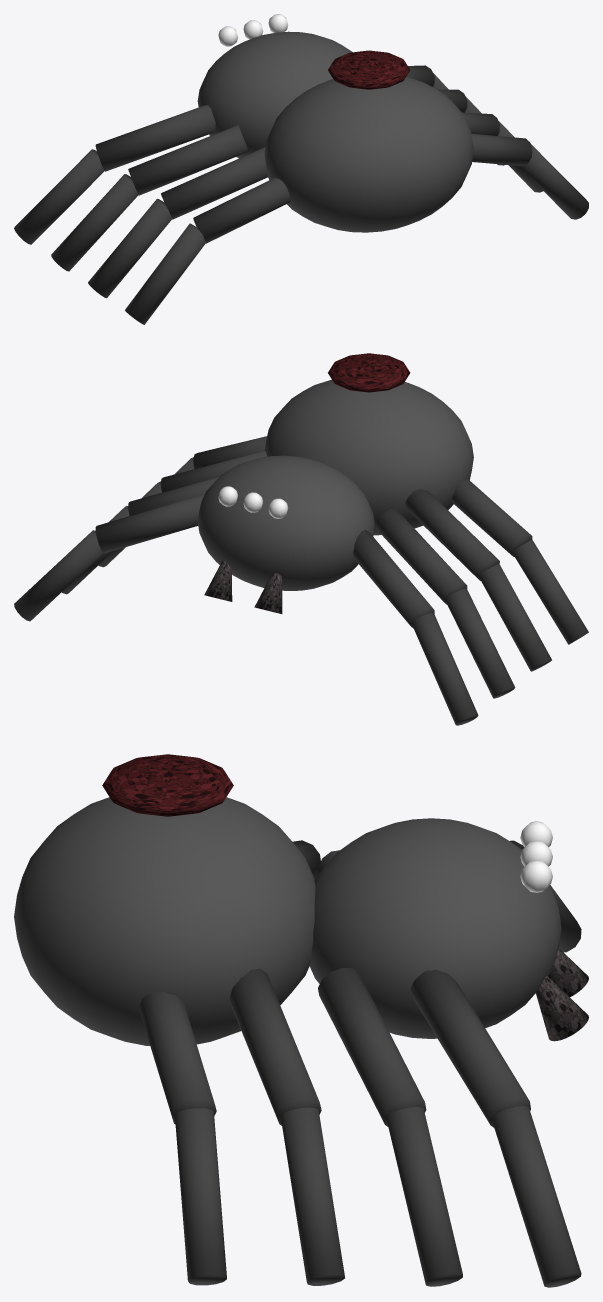
The model's file is widow-spider.glb.
3 renders of one model, top to bottom at view 1: azimuth 30°, elevation 25°; view 2: azimuth 150°, elevation 25°; view 3: azimuth 270°, elevation 25°, orthographic. The views are drawn at different scales.
Parts seen in each view (by area): view 1: RearMass, FrontMass, LegUpper, LegUpper.001, LegUpper.002, LegUpper.003, LegLower.001, LegLower.002, LegLower.003, LegLower, Mark, LegLower.007 (+4 smaller); view 2: RearMass, FrontMass, LegUpper.004, LegUpper.001, LegUpper.002, LegUpper, LegLower, LegLower.001, LegLower.002, LegLower.003, LegLower.004, Mark (+7 smaller); view 3: RearMass, FrontMass, LegUpper.004, LegLower.004, LegUpper.005, LegLower.005, LegLower.007, LegLower.006, LegUpper.006, Mark, LegUpper.007, Fang.001 (+3 smaller).
Part boxes in pixels (x1,y1,x2,y2): RearMass: [264, 77, 473, 232]; FrontMass: [197, 31, 352, 158]; LegUpper: [95, 105, 215, 171]; LegUpper.001: [128, 125, 248, 195]; LegUpper.002: [161, 147, 268, 219]; LegUpper.003: [193, 177, 290, 243]; LegLower.001: [51, 174, 138, 271]; LegLower.002: [88, 198, 171, 298]; LegLower.003: [125, 223, 205, 324]; LegLower: [14, 149, 104, 244]; Mark: [328, 50, 410, 89]; LegLower.007: [519, 144, 588, 219]; RearMass: [264, 379, 473, 535]; FrontMass: [197, 455, 374, 590]; LegUpper.004: [95, 494, 204, 553]; LegUpper.001: [375, 508, 467, 604]; LegUpper.002: [405, 489, 499, 580]; LegUpper: [353, 530, 434, 628]; LegLower: [412, 613, 478, 725]; LegLower.001: [446, 588, 515, 698]; LegLower.002: [479, 564, 551, 671]; LegLower.003: [513, 539, 588, 644]; LegLower.004: [14, 530, 103, 621]; Mark: [328, 353, 410, 392]; RearMass: [14, 797, 315, 1045]; FrontMass: [309, 818, 561, 1038]; LegUpper.004: [410, 969, 530, 1127]; LegLower.004: [492, 1106, 581, 1287]; LegUpper.005: [318, 968, 426, 1126]; LegLower.005: [386, 1107, 462, 1286]; LegLower.007: [175, 1108, 226, 1285]; LegLower.006: [280, 1107, 344, 1285]; LegUpper.006: [229, 968, 321, 1125]; Mark: [102, 754, 233, 816]; LegUpper.007: [139, 992, 216, 1124]; Fang.001: [536, 976, 588, 1041].
Bounding box in the file's own units: 0.9862 × 0.4487 × 0.6693.
5 materials, 2 textured.
